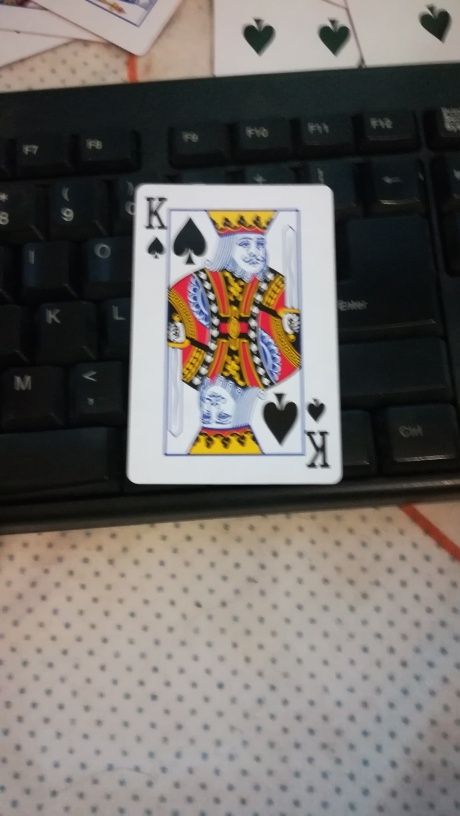ht k: (119, 180, 345, 489)
